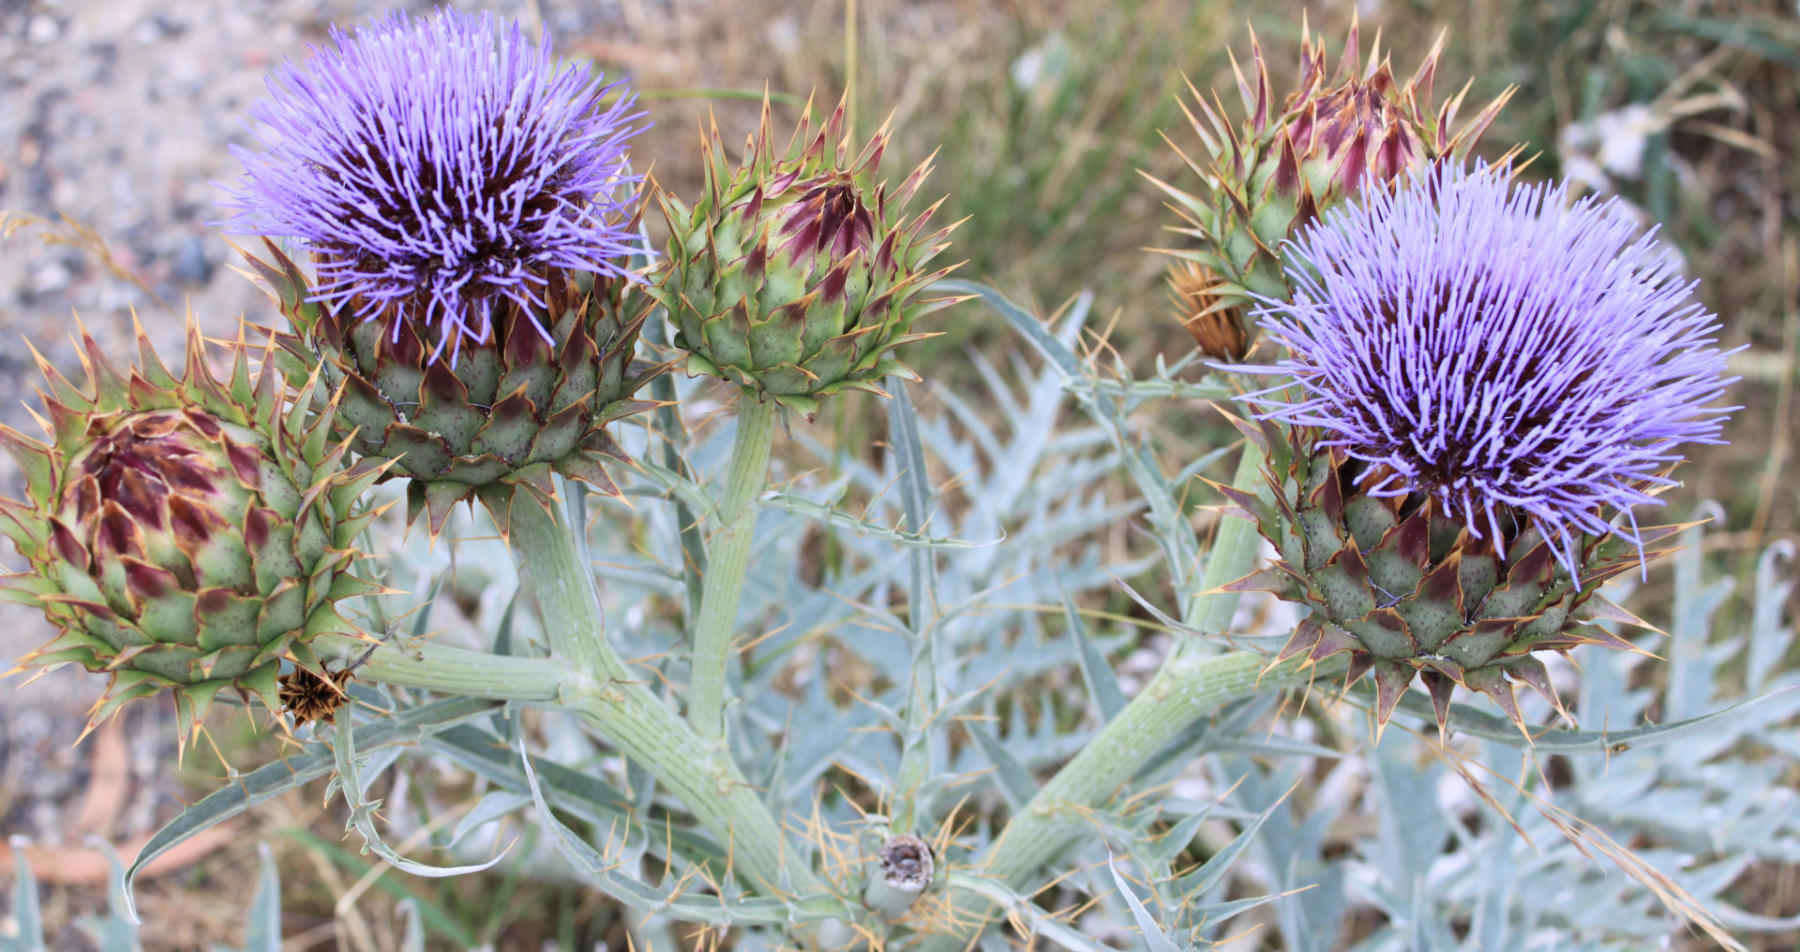thistle: (1245, 159, 1743, 737), (249, 54, 667, 507)
